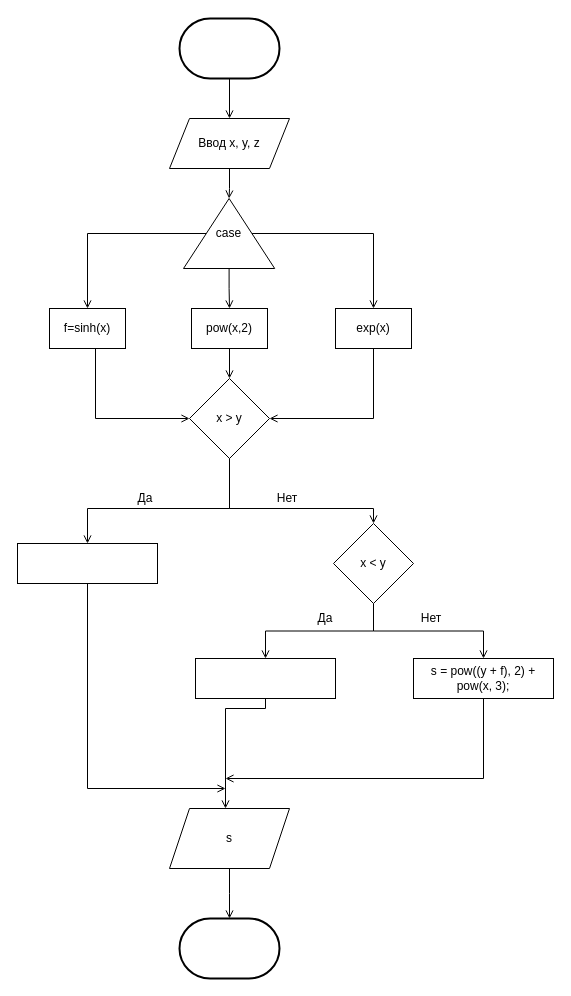
This 571x996 diagram has some shape labels left out. Each missing label, with the box of its shape:
s = pow((y - f), 3) + cos(f): (194, 658, 336, 698)
s = pow(fabs(f-y), 1./3 + tan(f): (16, 542, 158, 584)
Вход: (178, 17, 280, 79)
Конец: (178, 917, 280, 979)
